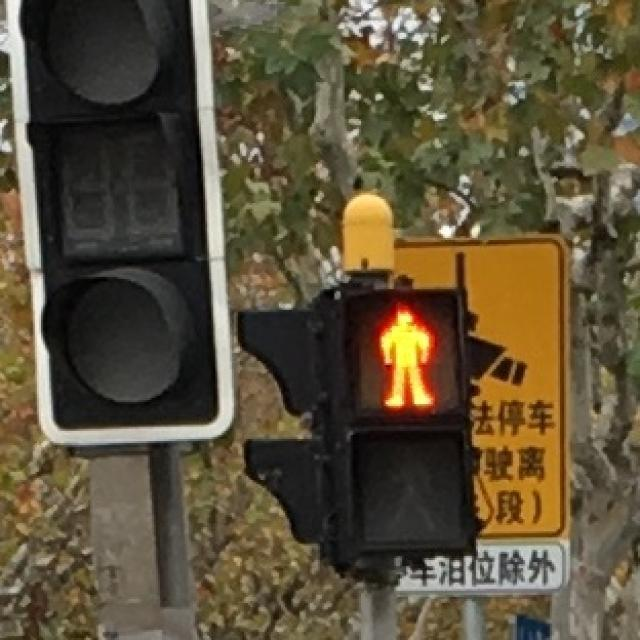red-crossing: (349, 292, 457, 412)
